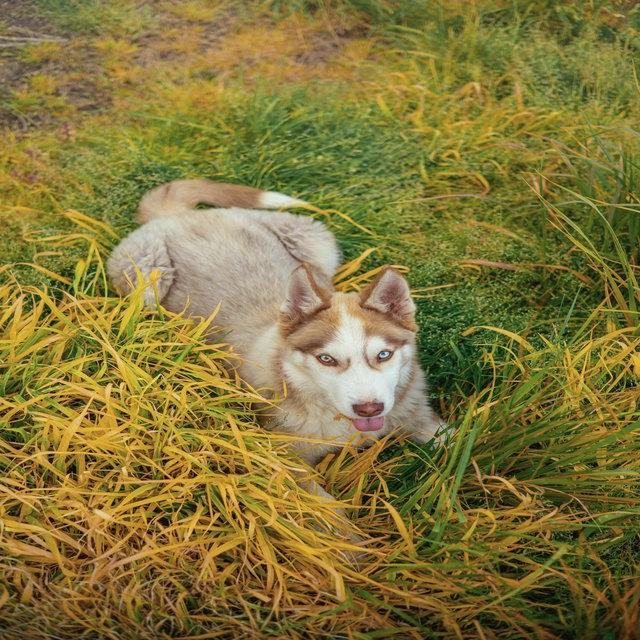husky: (100, 165, 482, 543)
